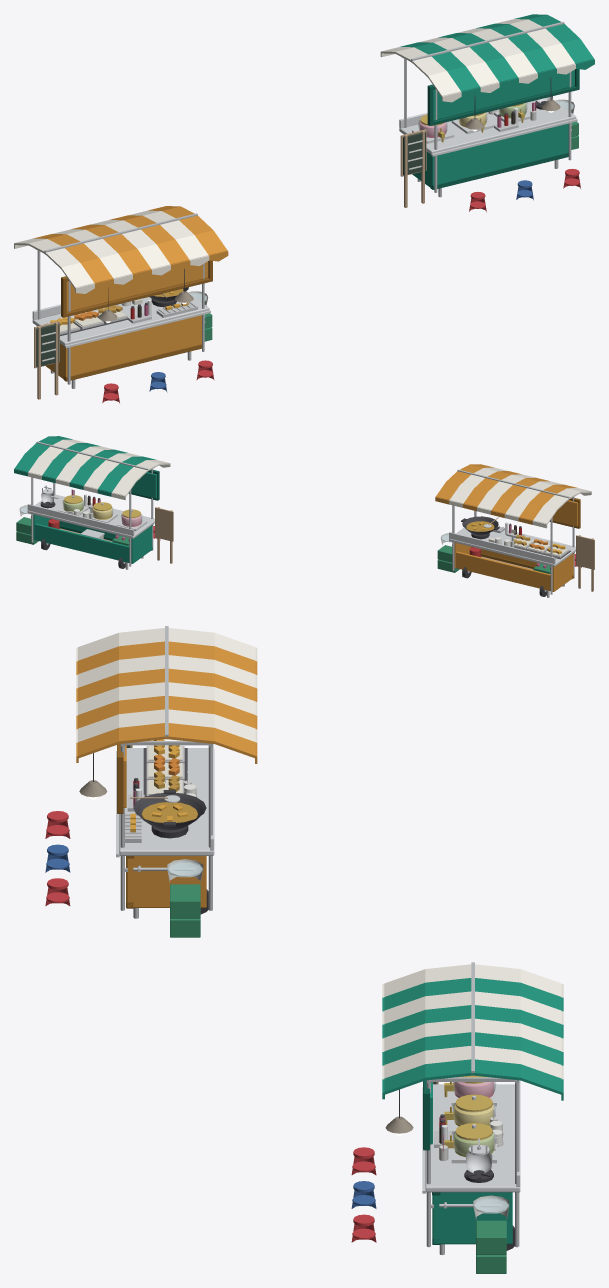
File: LM_ENV_Stalls.glb
The picture shows the model from 3 angles, top to bottom: view 1: azimuth 30°, elevation 25°; view 2: azimuth 150°, elevation 25°; view 3: azimuth 270°, elevation 25°; orthographic projection. The views are drawn at different scales.
Visible parts, largest first — view 1: stalls | Stall paint air-balang, stalls | Stall paint pisang-goreng, stalls | Stall canvas, stalls | Stall stainless, stalls | Stall post steel, stalls | Stall trim air-balang, stalls | Stall trim pisang-goreng, stalls | Stall plywood, stalls | Stall chalk board, stalls | Stall stool red, stalls | Stall foil tray, stalls | Stall bulb shade (+2 smaller); view 2: stalls | Stall paint pisang-goreng, stalls | Stall paint air-balang, stalls | Stall canvas, stalls | Stall stainless, stalls | Stall post steel, stalls | Stall plywood, stalls | Stall crate, stalls | Stall balang glass, stalls | Stall cast iron, stalls | Stall brass tap, stalls | Stall trim pisang-goreng, stalls | Stall paper (+3 smaller); view 3: stalls | Stall canvas, stalls | Stall paint air-balang, stalls | Stall paint pisang-goreng, stalls | Stall stainless, stalls | Stall post steel, stalls | Stall crate, stalls | Stall stool red, stalls | Stall balang glass, stalls | Stall brass tap, stalls | Stall plastic tub, stalls | Stall stool blue, stalls | Stall wok iron (+3 smaller).
Boxes of the visible parts, x1=… form: stalls | Stall paint air-balang: x1=400, y1=14, x2=594, y2=188; stalls | Stall paint pisang-goreng: x1=33, y1=206, x2=228, y2=378; stalls | Stall canvas: x1=14, y1=19, x2=575, y2=293; stalls | Stall stainless: x1=32, y1=96, x2=577, y2=348; stalls | Stall post steel: x1=36, y1=21, x2=571, y2=388; stalls | Stall trim air-balang: x1=427, y1=69, x2=579, y2=189; stalls | Stall trim pisang-goreng: x1=61, y1=260, x2=212, y2=381; stalls | Stall plywood: x1=34, y1=129, x2=426, y2=399; stalls | Stall chalk board: x1=36, y1=132, x2=425, y2=366; stalls | Stall stool red: x1=102, y1=168, x2=580, y2=403; stalls | Stall foil tray: x1=45, y1=121, x2=518, y2=334; stalls | Stall bulb shade: x1=98, y1=99, x2=560, y2=321; stalls | Stall paint pisang-goreng: x1=435, y1=464, x2=578, y2=591; stalls | Stall paint air-balang: x1=14, y1=436, x2=156, y2=563; stalls | Stall canvas: x1=28, y1=439, x2=591, y2=528; stalls | Stall stainless: x1=27, y1=489, x2=575, y2=566; stalls | Stall post steel: x1=30, y1=441, x2=574, y2=597; stalls | Stall plywood: x1=59, y1=507, x2=594, y2=591; stalls | Stall crate: x1=16, y1=517, x2=550, y2=574; stalls | Stall balang glass: x1=62, y1=500, x2=142, y2=525; stalls | Stall cast iron: x1=40, y1=501, x2=546, y2=596; stalls | Stall brass tap: x1=64, y1=495, x2=140, y2=518; stalls | Stall trim pisang-goreng: x1=481, y1=497, x2=580, y2=578; stalls | Stall paper: x1=67, y1=511, x2=568, y2=556; stalls | Stall canvas: x1=76, y1=628, x2=563, y2=1079; stalls | Stall paint air-balang: x1=382, y1=978, x2=563, y2=1244; stalls | Stall paint pisang-goreng: x1=76, y1=641, x2=257, y2=907; stalls | Stall stainless: x1=116, y1=744, x2=520, y2=1193; stalls | Stall post steel: x1=120, y1=626, x2=519, y2=1255; stalls | Stall crate: x1=170, y1=884, x2=506, y2=1273; stalls | Stall stool red: x1=45, y1=811, x2=376, y2=1242; stalls | Stall balang glass: x1=452, y1=1082, x2=495, y2=1154; stalls | Stall brass tap: x1=444, y1=1075, x2=492, y2=1148; stalls | Stall plastic tub: x1=167, y1=780, x2=509, y2=1220; stalls | Stall stool blue: x1=45, y1=844, x2=376, y2=1208; stalls | Stall wok iron: x1=133, y1=793, x2=206, y2=830.
Size of the model in its own units: 18.28 by 3.53 by 8.46.
